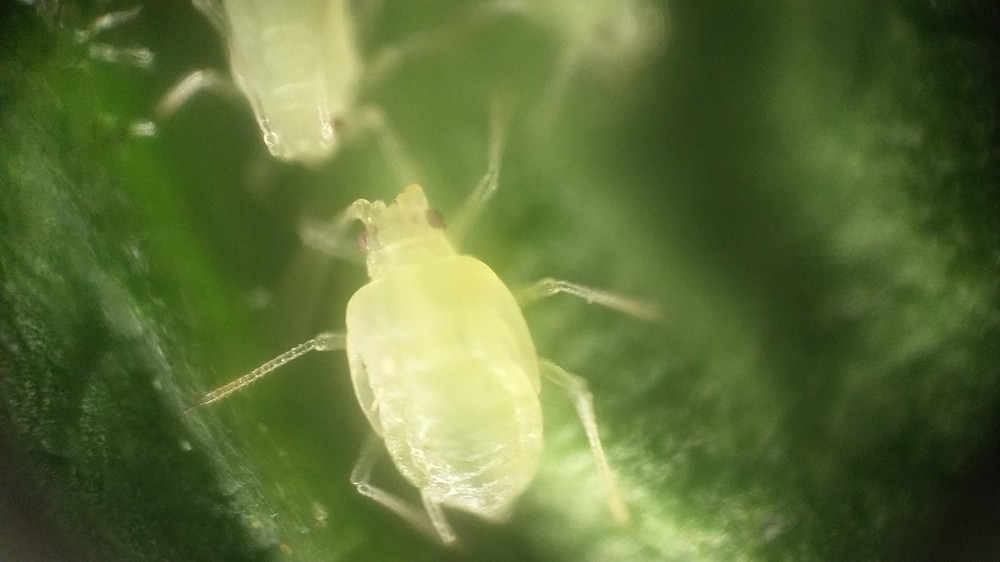Pulgon: (219, 174, 693, 547), (136, 1, 491, 182)
